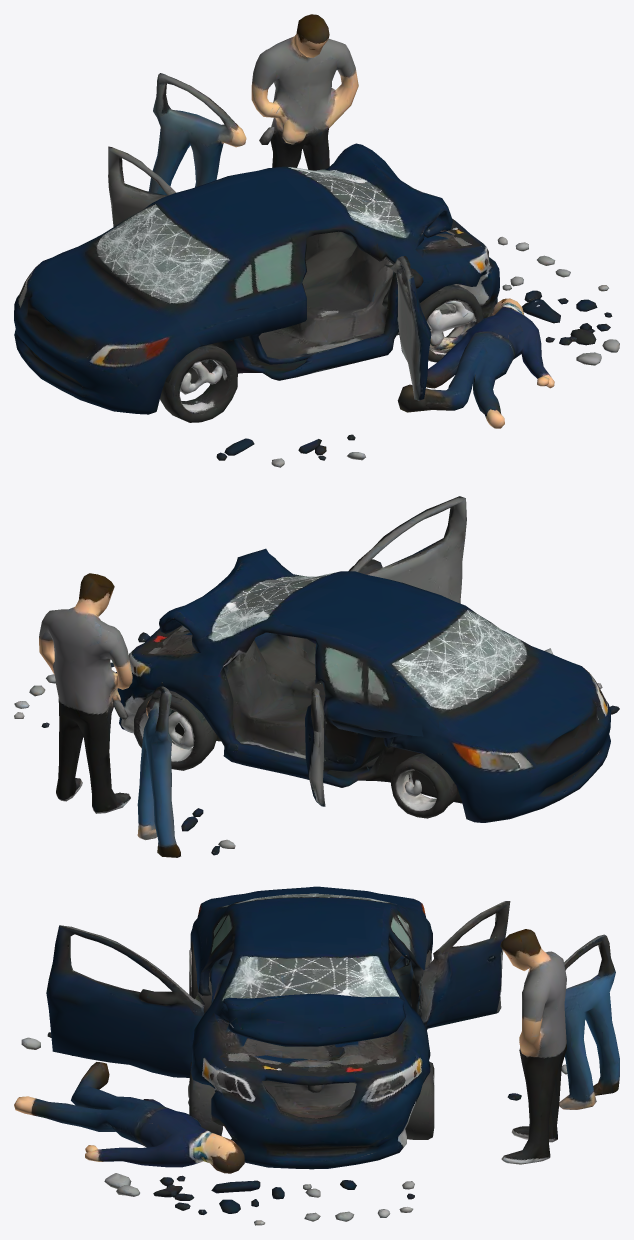
File: carcrash-compressed.glb
The picture shows the model from 3 angles, top to bottom: view 1: azimuth 30°, elevation 25°; view 2: azimuth 150°, elevation 25°; view 3: azimuth 270°, elevation 25°; orthographic projection.
Visible parts, largest first — view 1: mesh_0; view 2: mesh_0; view 3: mesh_0.
Part boxes in pixels (<box>): mesh_0: <box>14,14,619,467</box>; mesh_0: <box>14,496,619,857</box>; mesh_0: <box>14,886,619,1225</box>.
Bounding box in the file's own units: 2 × 0.7719 × 1.93.
1 material, 1 textured.
